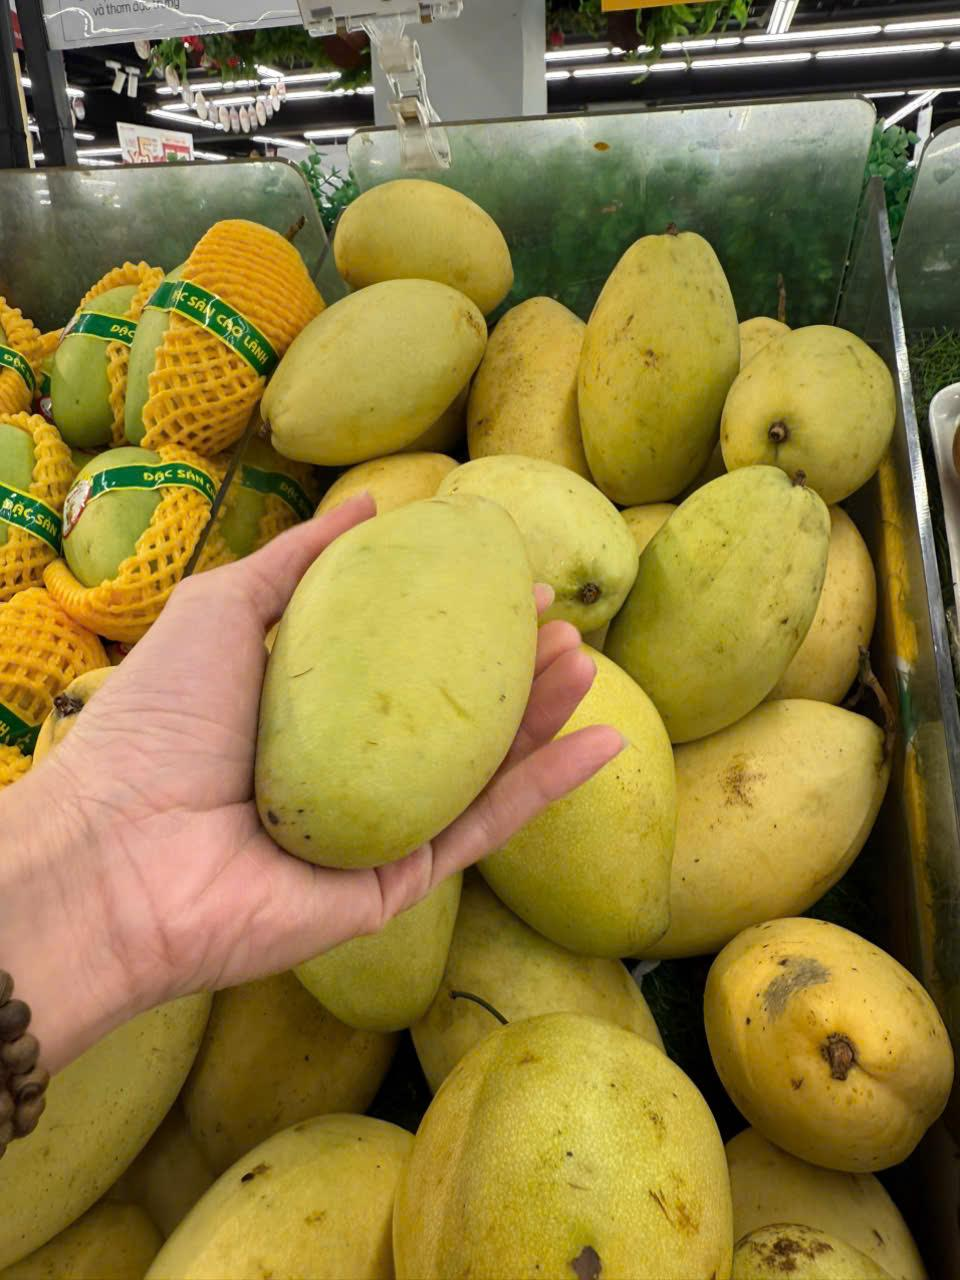mango: (247, 501, 544, 860), (390, 998, 740, 1280), (700, 903, 960, 1174), (617, 466, 826, 722), (659, 706, 898, 910), (130, 1108, 410, 1280), (245, 265, 482, 468), (580, 236, 736, 496), (730, 315, 896, 498), (320, 168, 530, 305), (468, 283, 590, 456)
